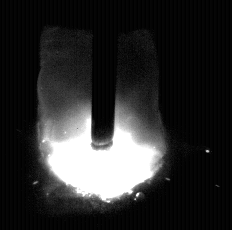arame: (92, 0, 116, 150)
poca: (37, 0, 167, 230)
